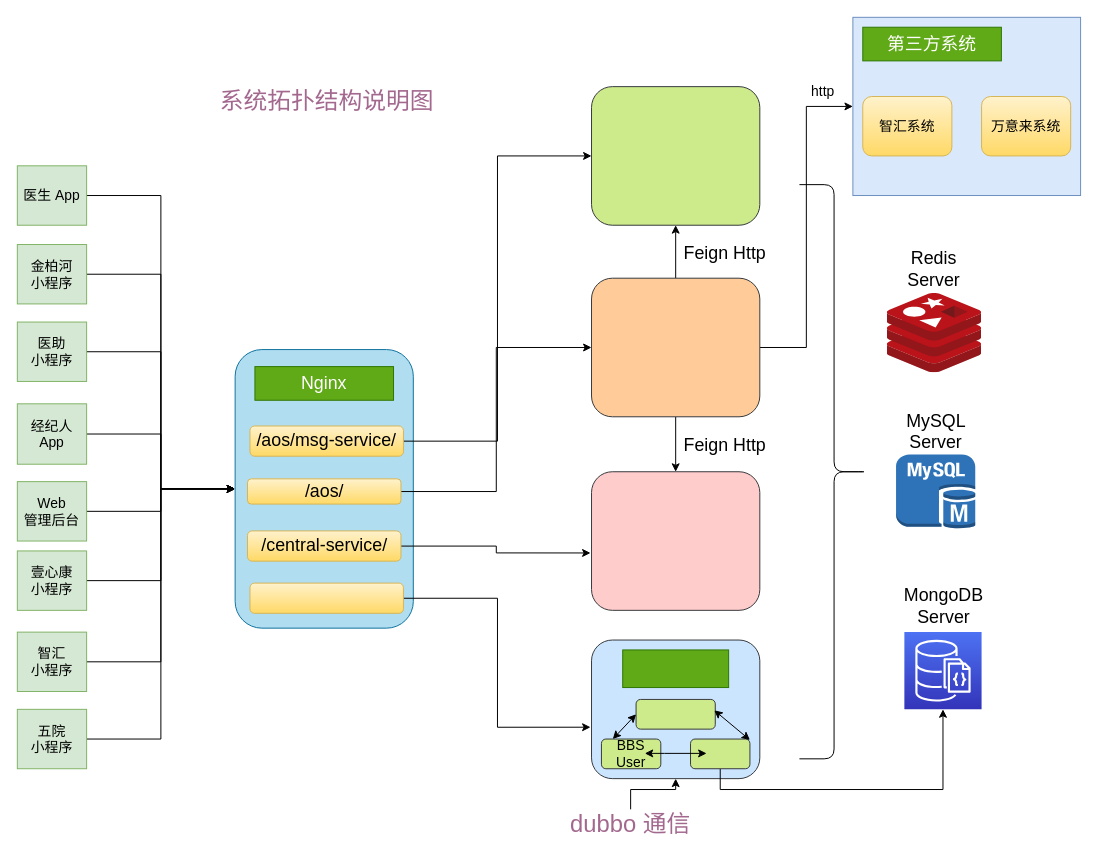
The diagram is 1098 pixels wide and 856 high, and some of its shapes have lost their labels. The centre of each missing label's shape, as x and y in pixels:
/bbs-service/: (326,597)
BBS Article: (720,753)
BBS Rest: (675,713)
BBS Service (论坛服务): (675,668)
Central Service (中控服务): (675,540)
JBH Service （金柏河业务服务）: (675,347)
MajorTom Service (消息服务): (675,155)
